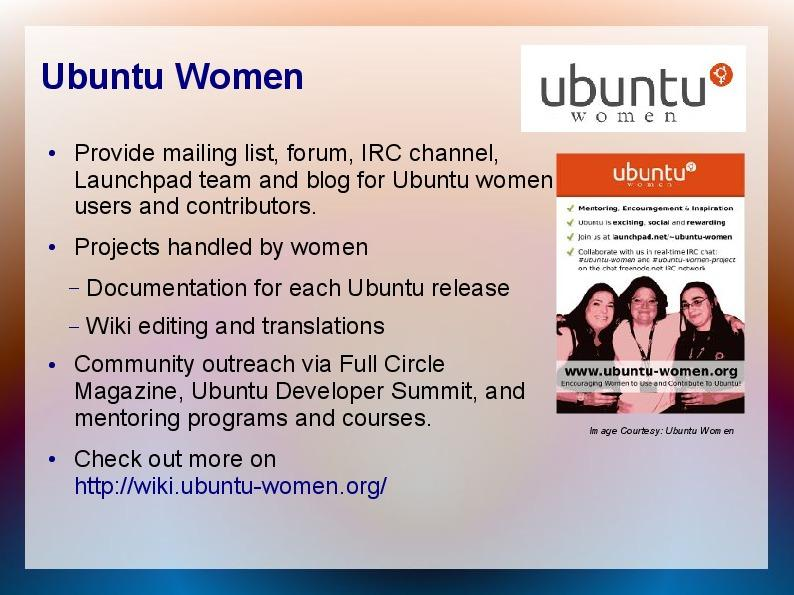paragraph: (39, 124, 560, 531)
title: (32, 49, 313, 110)
